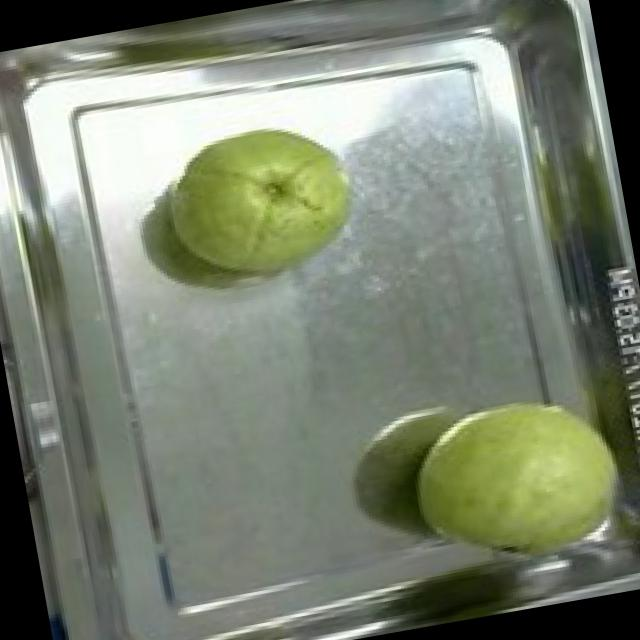Fruit: (391, 372, 640, 587), (144, 98, 372, 300)
